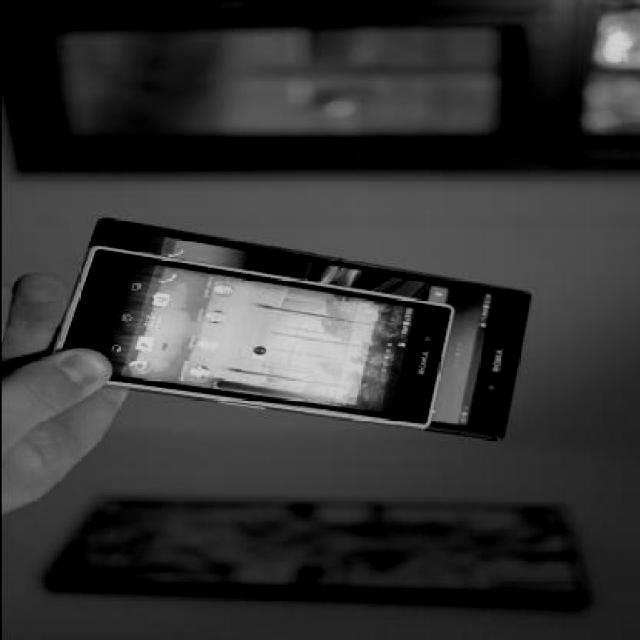fake: (82, 214, 532, 440)
